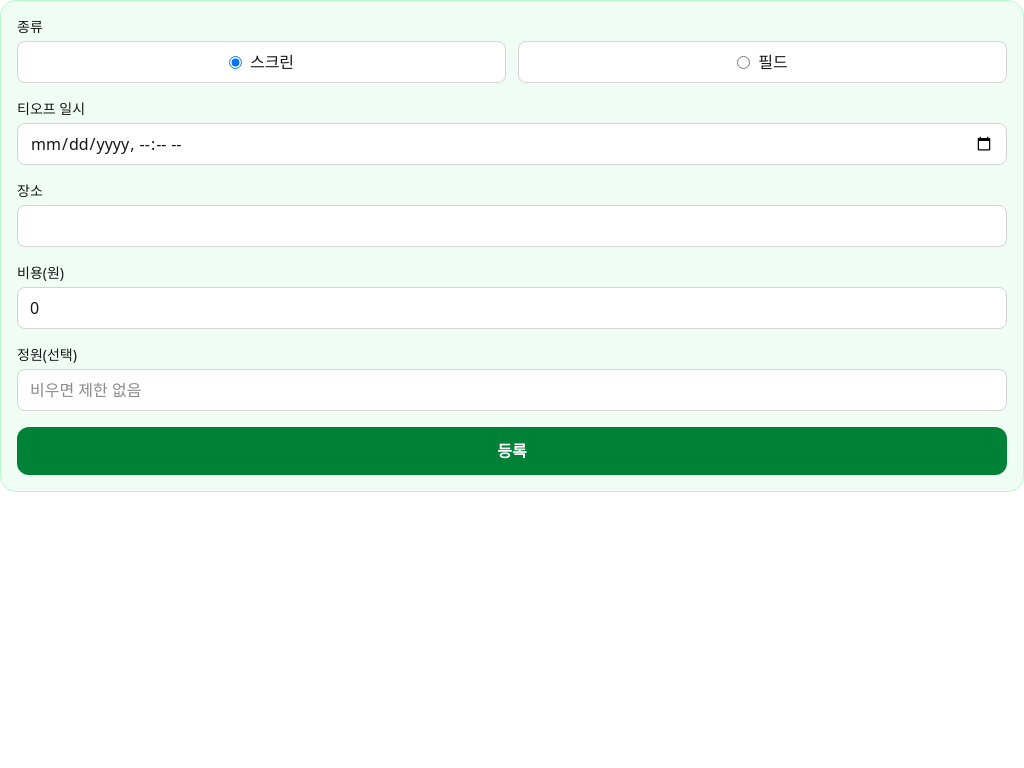
Test: RoundForm › 서버가 오류를 돌려주면 메시지를 보여 주고 다시 제출할 수 있다
Click the radio button labelled "스크린".
click(235, 62)  # box [229,56,242,68]
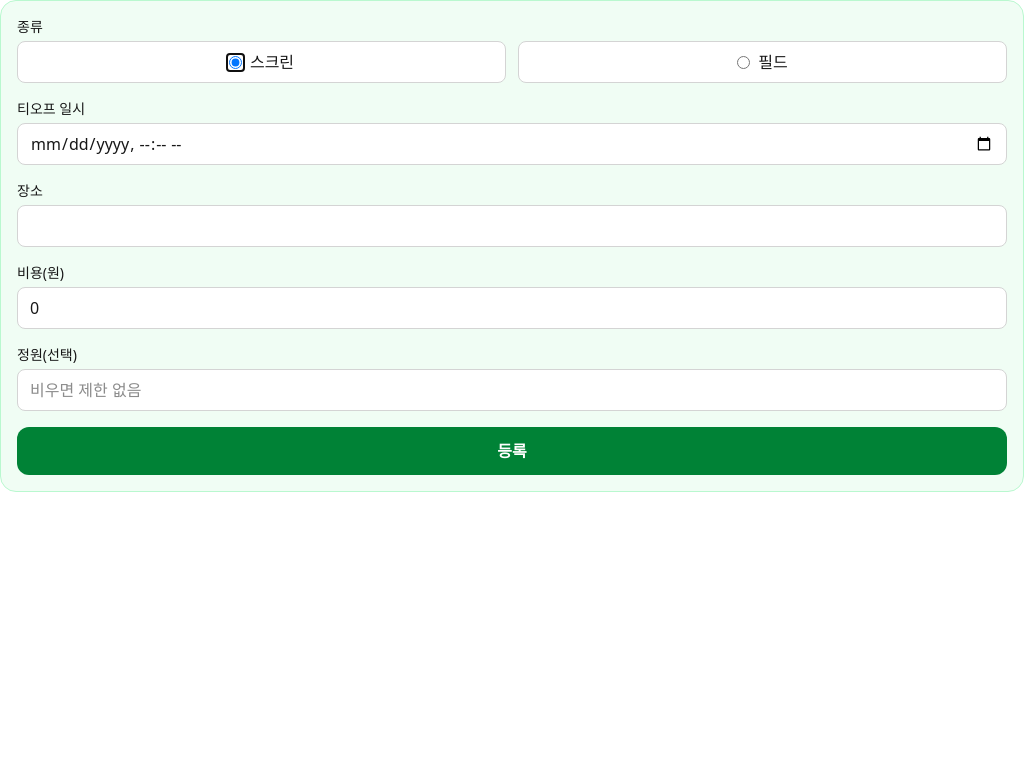
Type "2099-01-01T10:00" into the field labelled "티오프 일시".
click(512, 144); type("2099-01-01T10:00")  # box [17,123,1007,165]
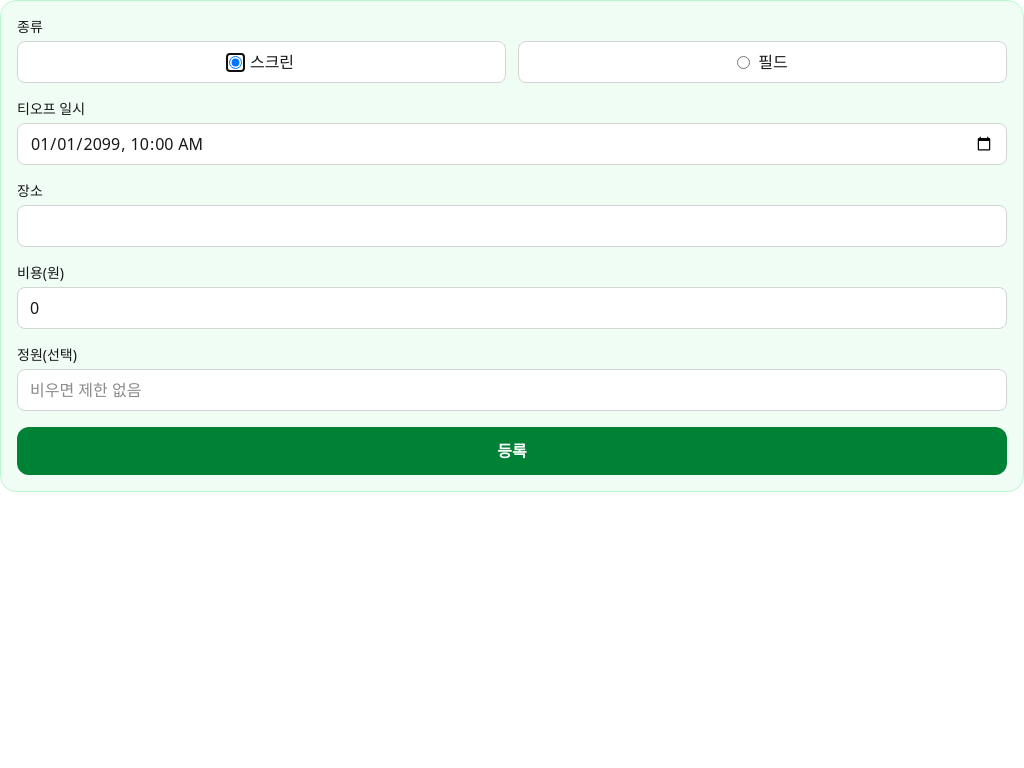
Type "  강남 스크린골프 " into the field labelled "장소".
click(512, 226); type("  강남 스크린골프 ")  # box [17,205,1007,247]
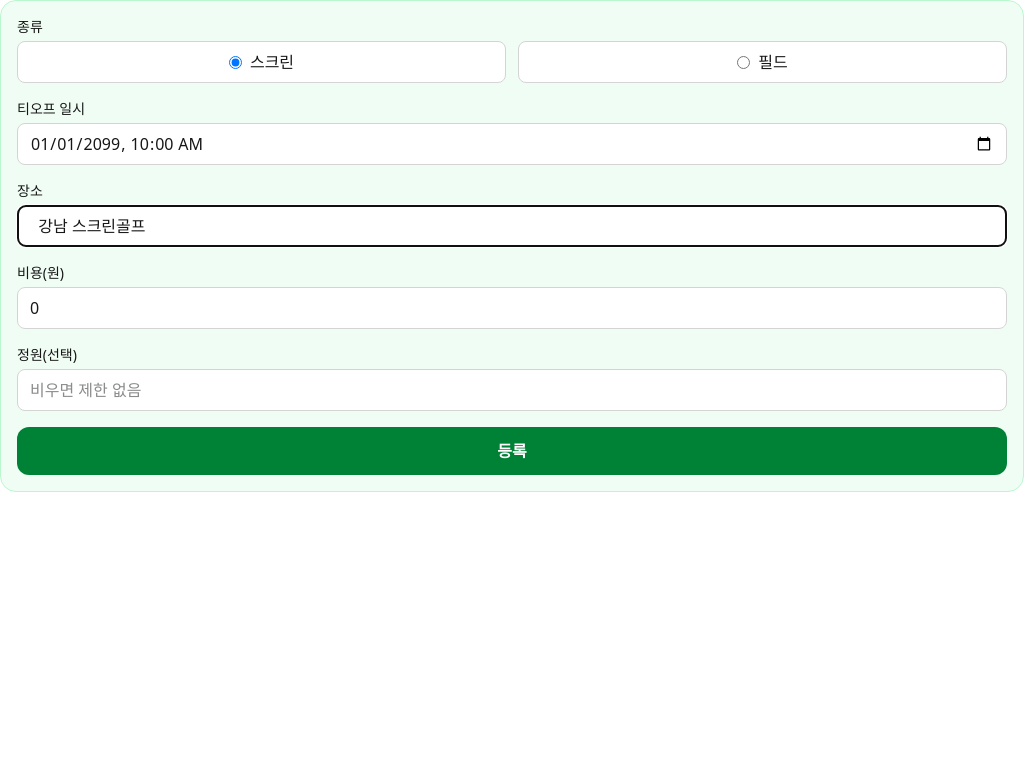
Replace the text in the field labelled "비용(원)" with "25000" at (512, 308), box [17,287,1007,329]
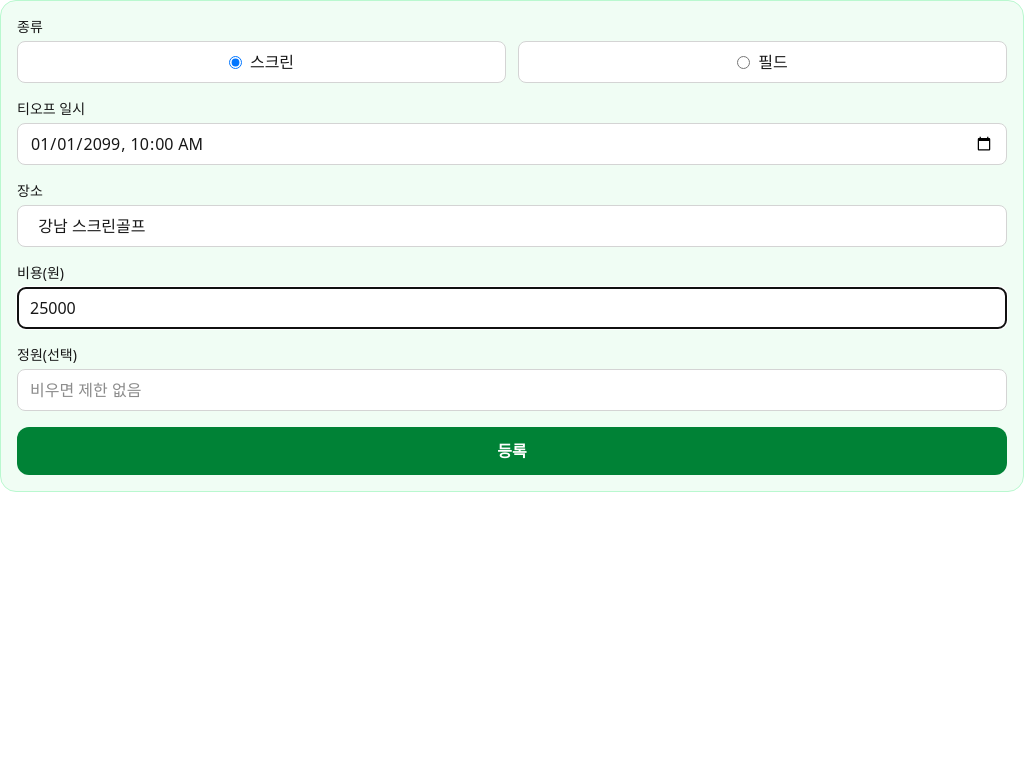
Click the button "등록".
click(512, 451)  # box [17,427,1007,475]
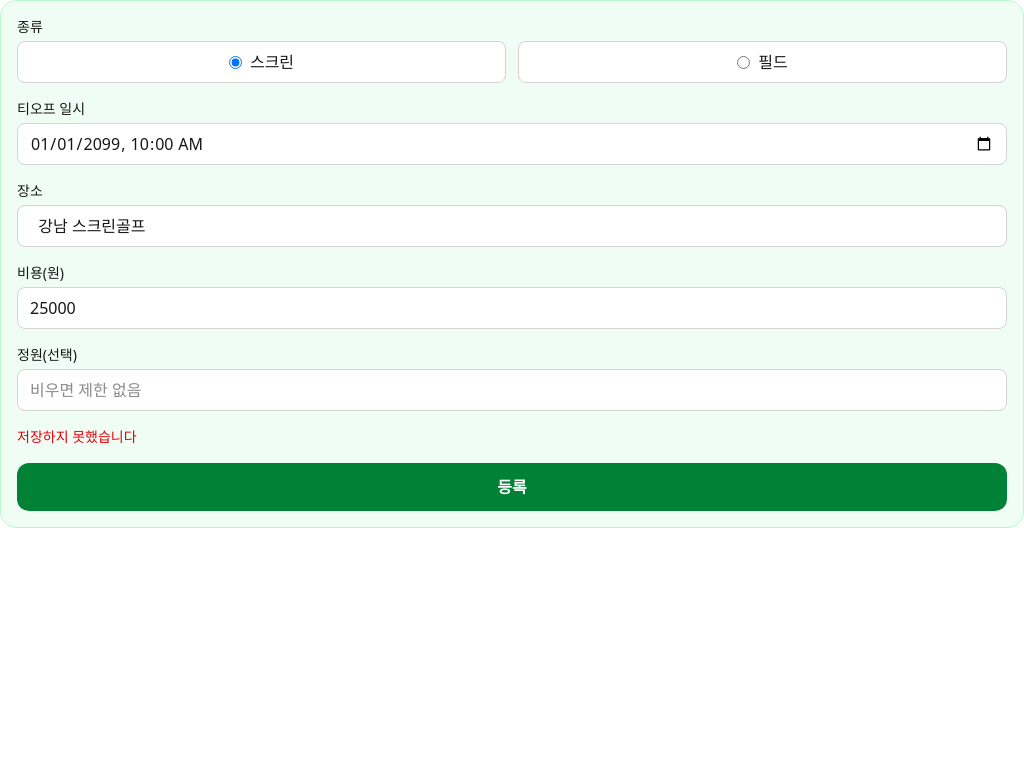
Expected: the button "등록" is enabled, [17,463,1007,511]
Expected: the message reads "저장하지 못했습니다", [17,427,137,446]
